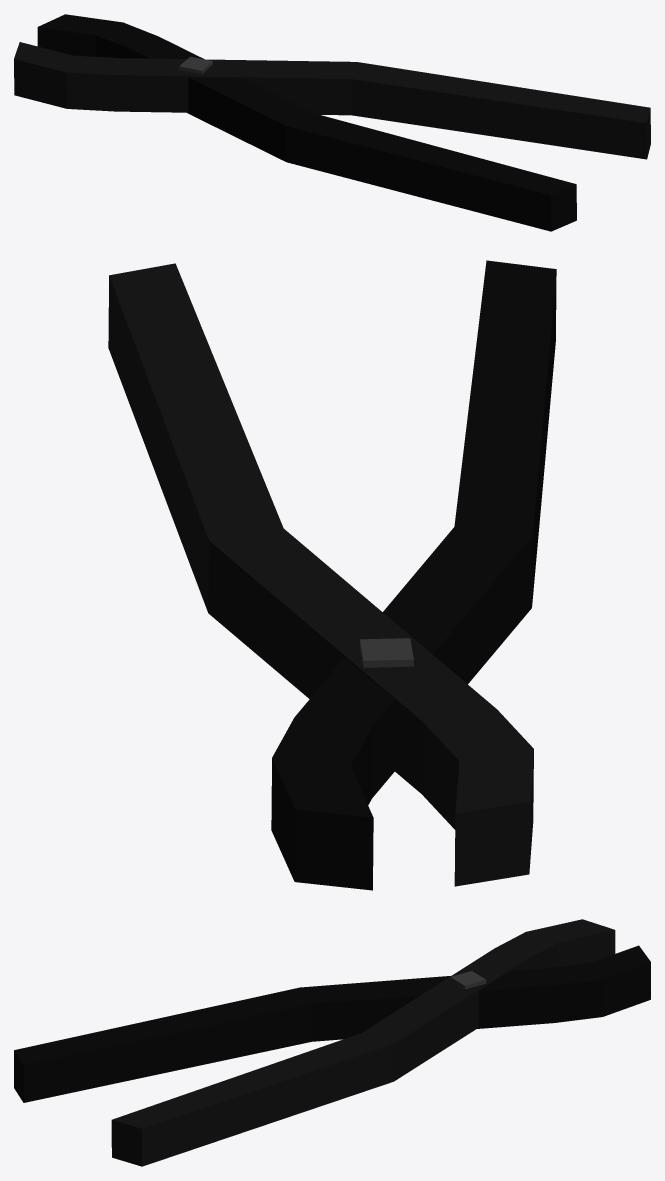
The model's file is forceps.fbx.
3 views of the same model, one above another, from view 1: azimuth 30°, elevation 25°; view 2: azimuth 150°, elevation 25°; view 3: azimuth 270°, elevation 25° (orthographic). The views are drawn at different scales.
Visible parts, largest first — view 1: ticks left.002, ticks left.001; view 2: ticks left.002, ticks left.001; view 3: ticks left.001, ticks left.002.
Part boxes in pixels (<box>): ticks left.002: <box>14,42,650,159</box>; ticks left.001: <box>37,14,576,231</box>; ticks left.002: <box>108,263,533,886</box>; ticks left.001: <box>271,260,556,890</box>; ticks left.001: <box>14,945,650,1102</box>; ticks left.002: <box>111,919,615,1166</box>.
Size of the model in its own units: 26.3 by 2.67 by 33.11.
